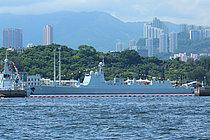MIL_Ship: (30, 62, 195, 95)
